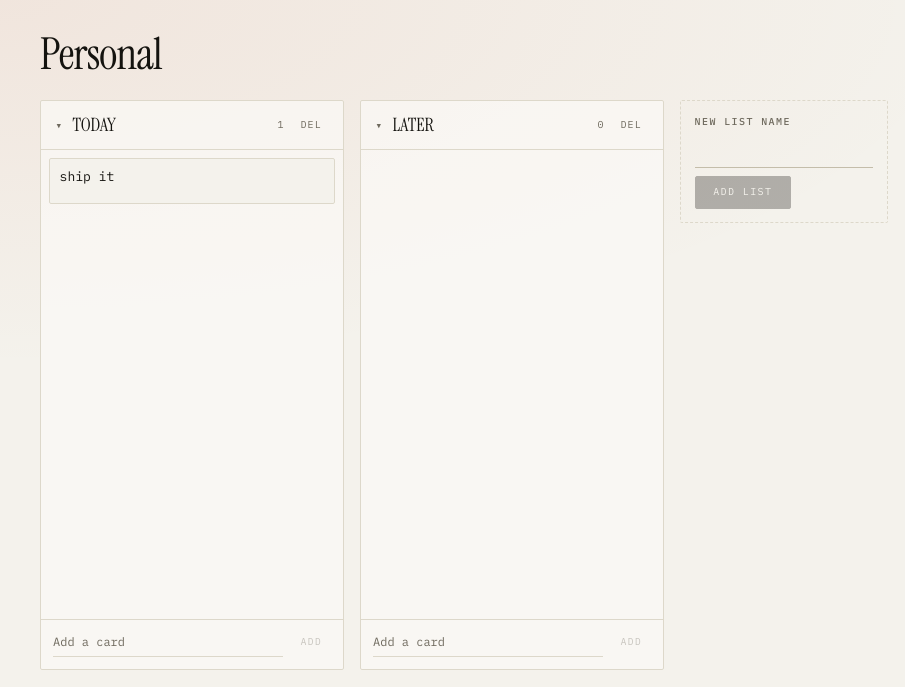
Scenario: collapsing a list hides its cards and quick-add but keeps name and count
This screenshot has width=905, height=687.
Click the button named "Collapse list TODAY".
click(59, 125)  # box [51, 113, 67, 137]
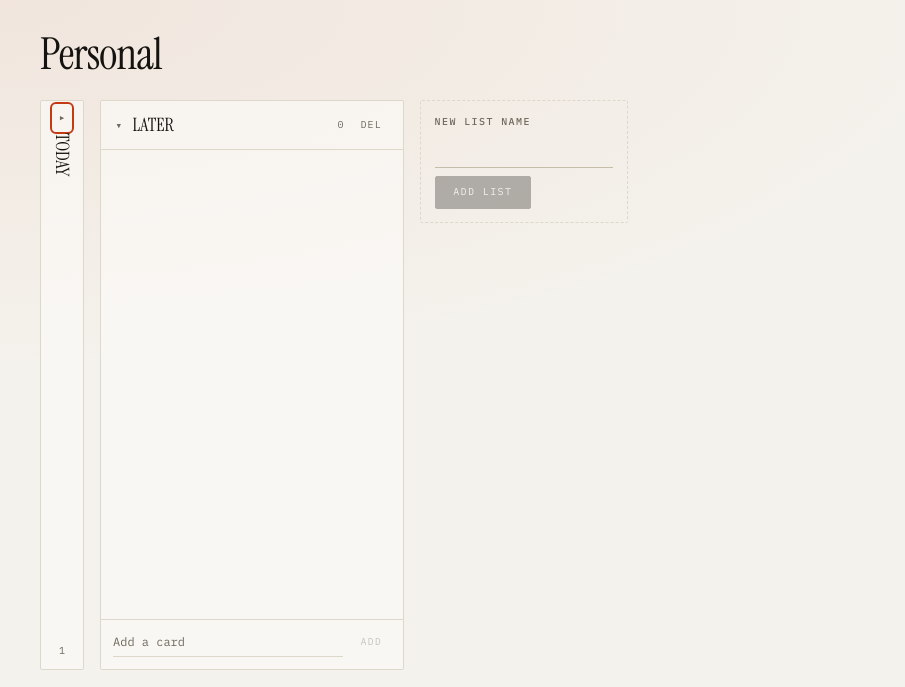
Expected: the element named "List TODAY" shows "TODAY", [50, 133, 74, 176]
Result: the button "ship it" is gone
Click the button named "Expand list TODAY".
click(62, 118)  # box [54, 106, 70, 130]
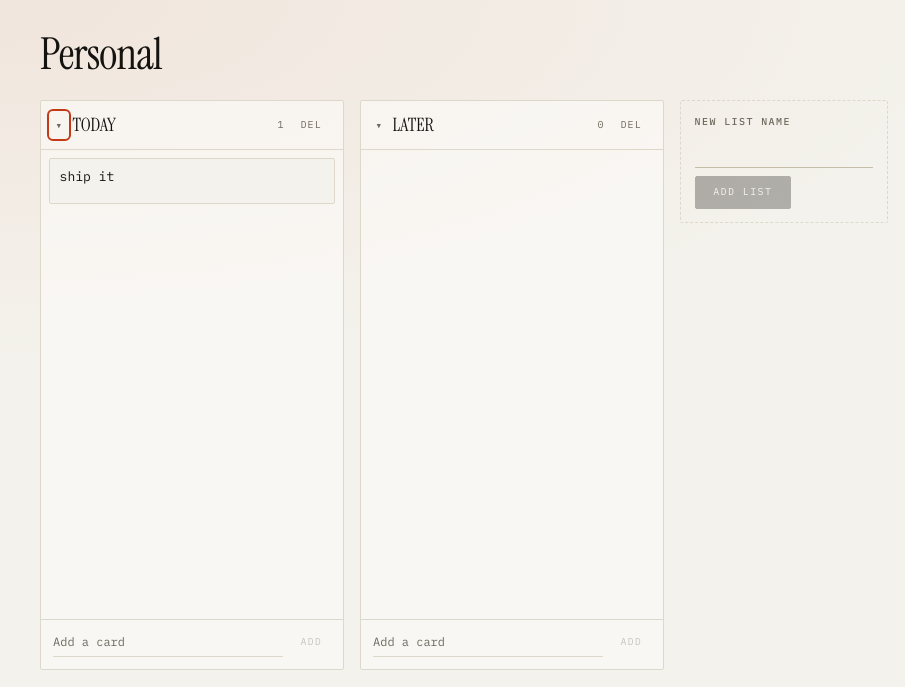
Result: the button "ship it" is shown at [60, 168, 277, 186]
